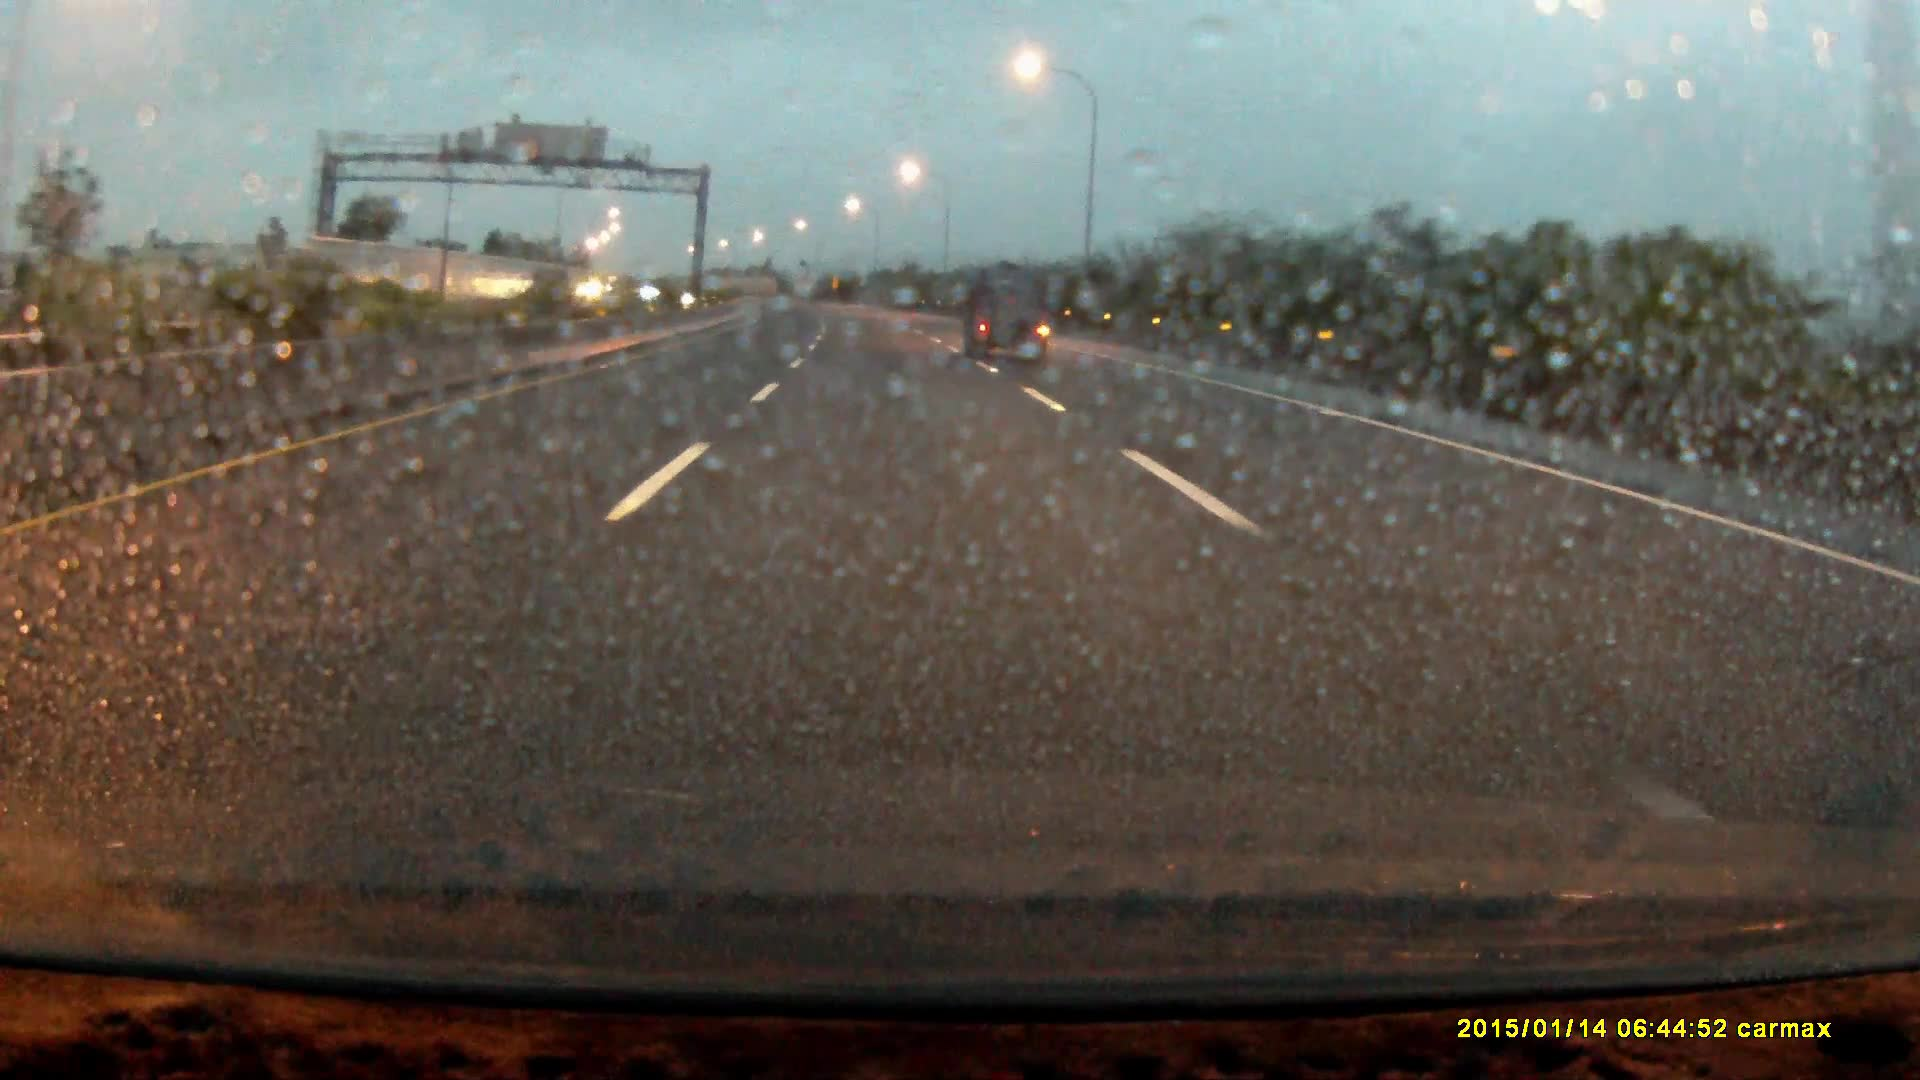vehicle: (968, 273, 1055, 363), (529, 268, 585, 311)
